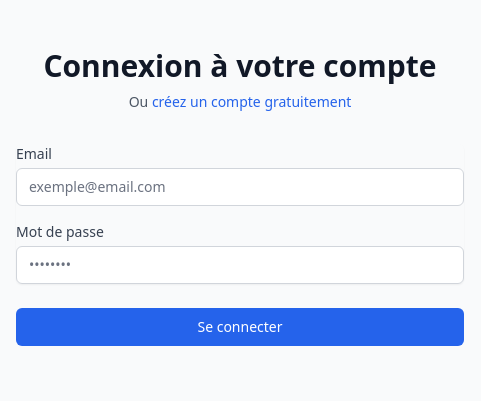
Test case: Login Page › affiche un message d'erreur avec des identifiants invalides
This screenshot has width=481, height=401.
Type "test@example.com" into the field labelled "Email".
click(240, 187); type("test@example.com")  # box [16, 168, 464, 206]
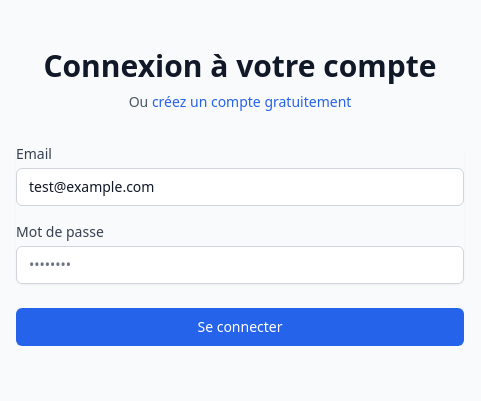
Type "wrongpassword" into the password field labelled "Mot de passe".
click(240, 265); type("wrongpassword")  # box [16, 246, 464, 284]
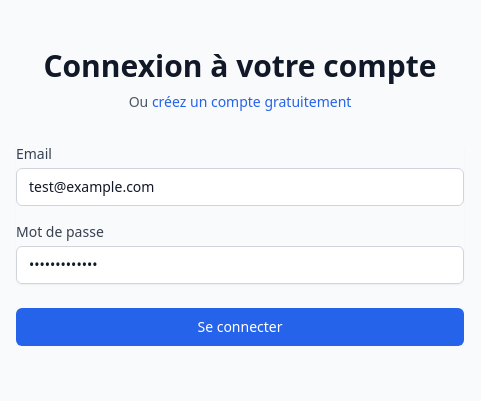
Click the button "Se connecter".
click(240, 327)  # box [16, 308, 464, 346]
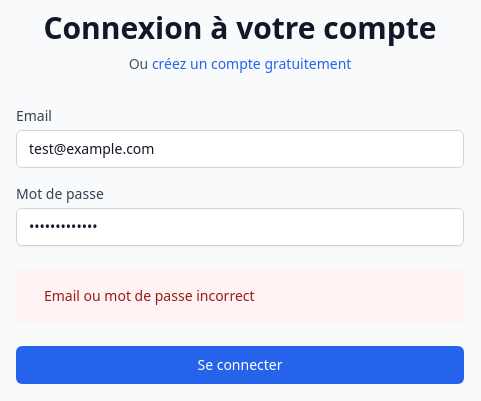
Now the heading "Email ou mot de passe incorrect" is shown, box [44, 286, 255, 306]
